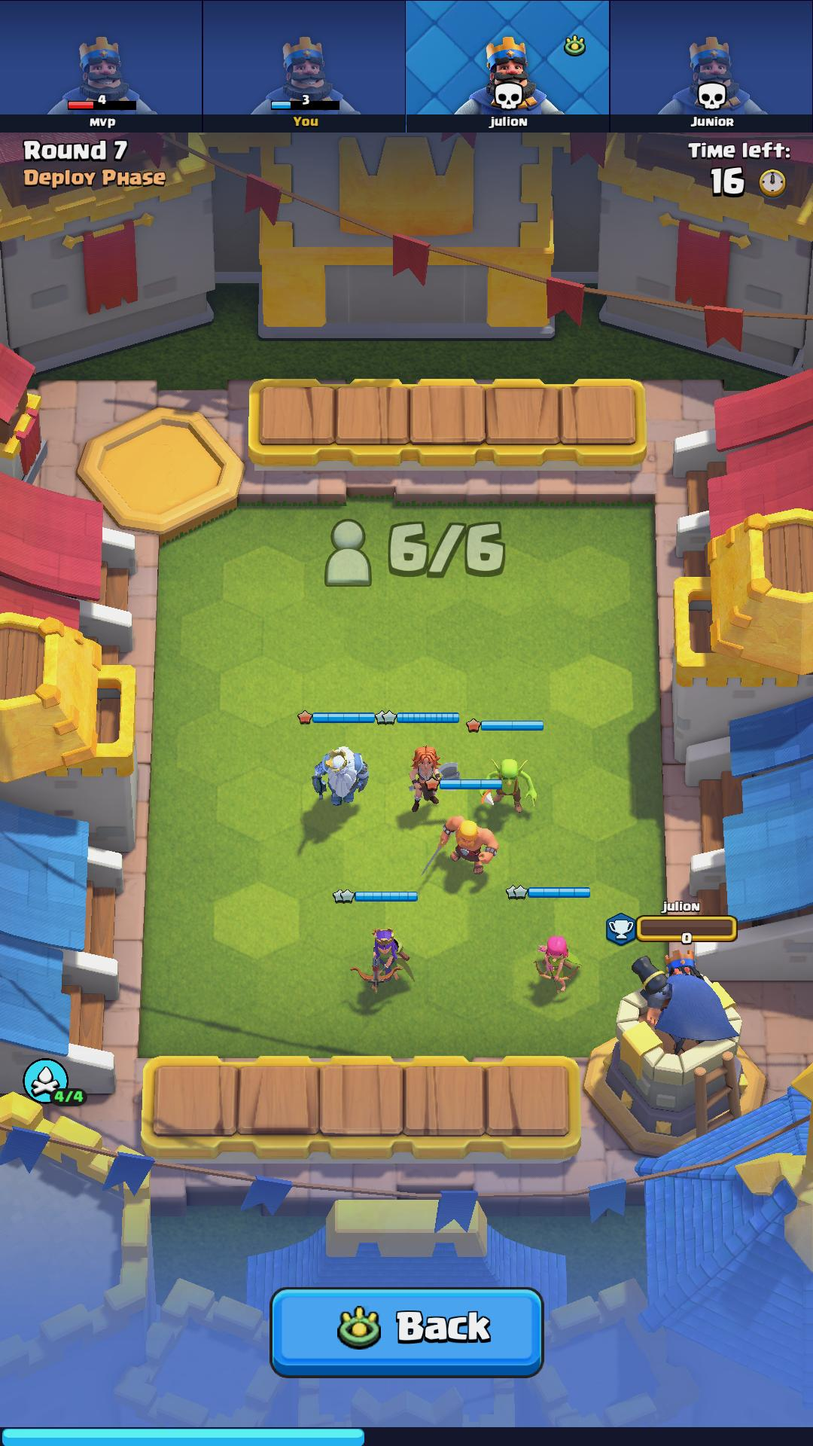archer: (520, 914, 585, 993)
barbarian: (411, 812, 512, 880)
ghost: (305, 734, 375, 808)
goblin: (475, 747, 542, 818)
queen: (340, 917, 421, 998)
valkyrie: (397, 731, 465, 814)
